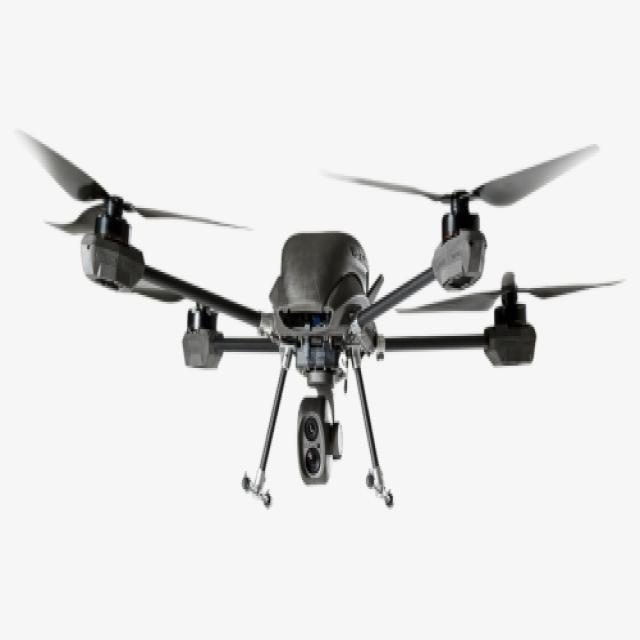drone: (0, 14, 627, 552)
